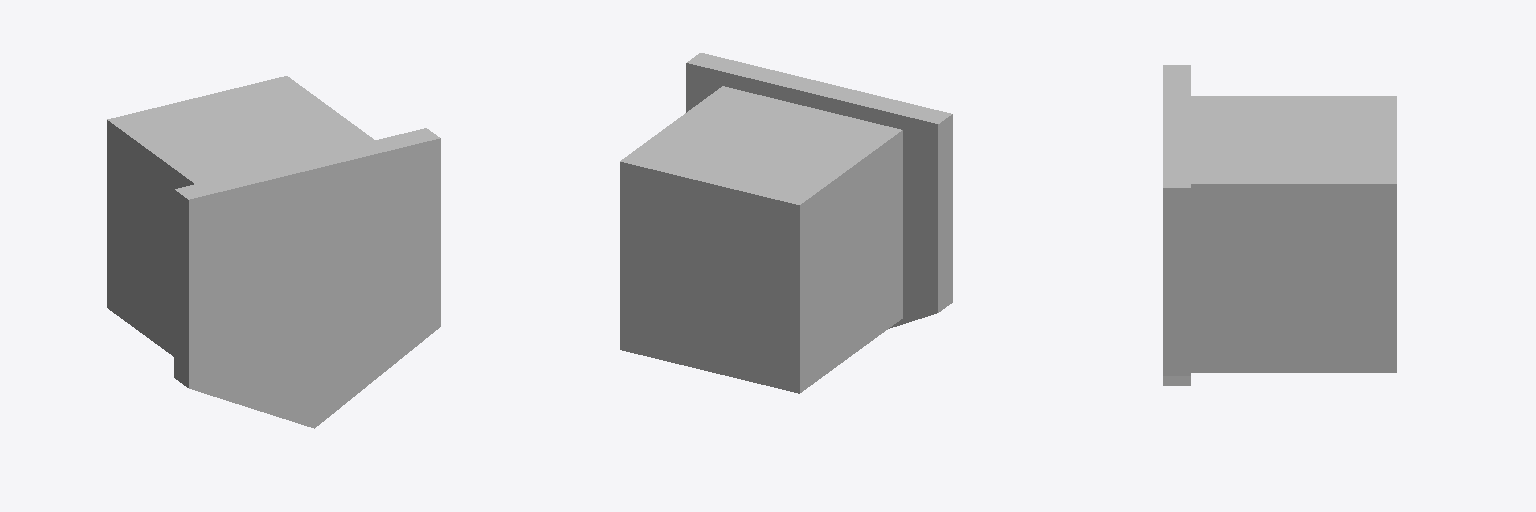
Rendered from skull_king_deep_tro.obj.
3 renders of one model, left to right at view 1: azimuth 30°, elevation 25°; view 2: azimuth 150°, elevation 25°; view 3: azimuth 270°, elevation 25°, orthographic.
Visible parts, largest first — view 1: cube_Cube.002; view 2: cube_Cube.002; view 3: cube_Cube.002.
Boxes of the visible parts, x1=… form: cube_Cube.002: x1=107, y1=76, x2=440, y2=428; cube_Cube.002: x1=620, y1=53, x2=952, y2=393; cube_Cube.002: x1=1163, y1=65, x2=1396, y2=385.
Size of the model in its own units: 1.01 by 0.9925 by 0.8121.